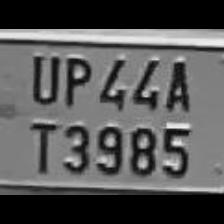3: (56, 119, 90, 176)
4: (92, 50, 128, 110), (125, 50, 160, 110)
5: (158, 121, 192, 178)
8: (124, 119, 158, 176)
9: (90, 119, 124, 176)
A: (160, 54, 192, 114)
P: (57, 50, 90, 110)
T: (22, 114, 60, 176)
U: (24, 48, 60, 106)
